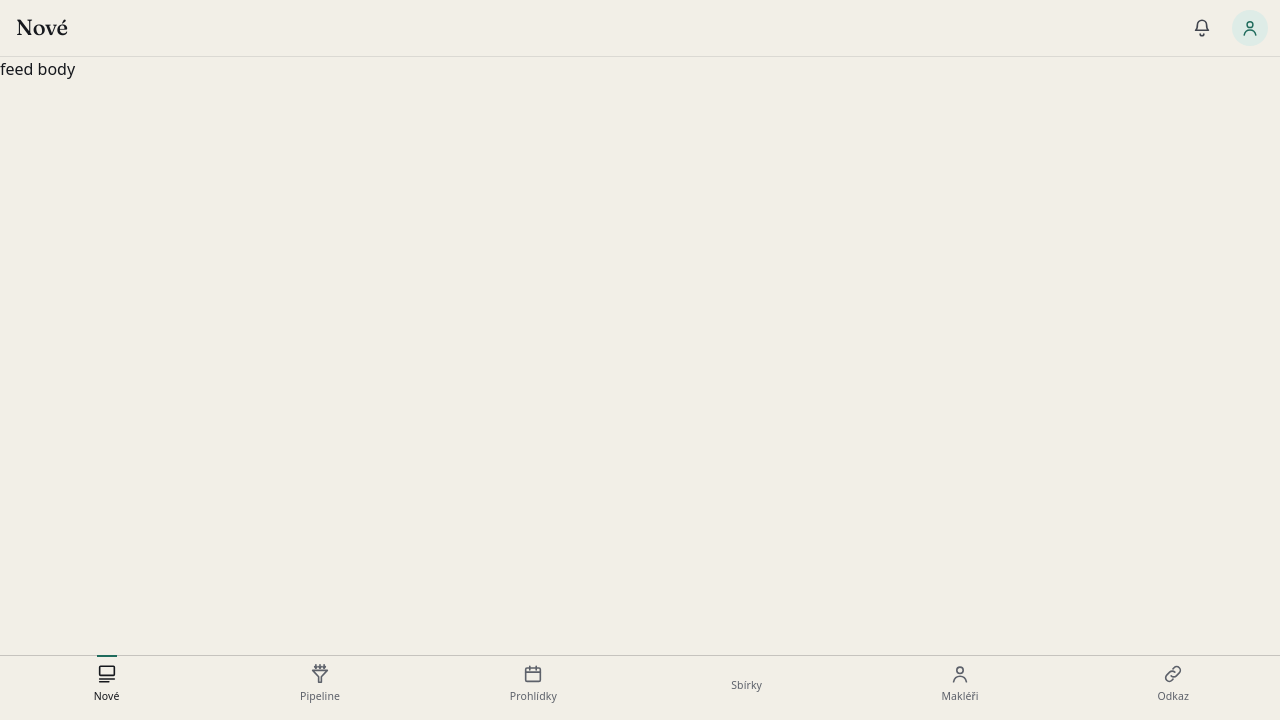
Test case: the push switch in the account sheet › is disabled in a Safari tab, and says what would help
Click the button named "Účet": x=1250, y=28 [1232,10,1268,46]
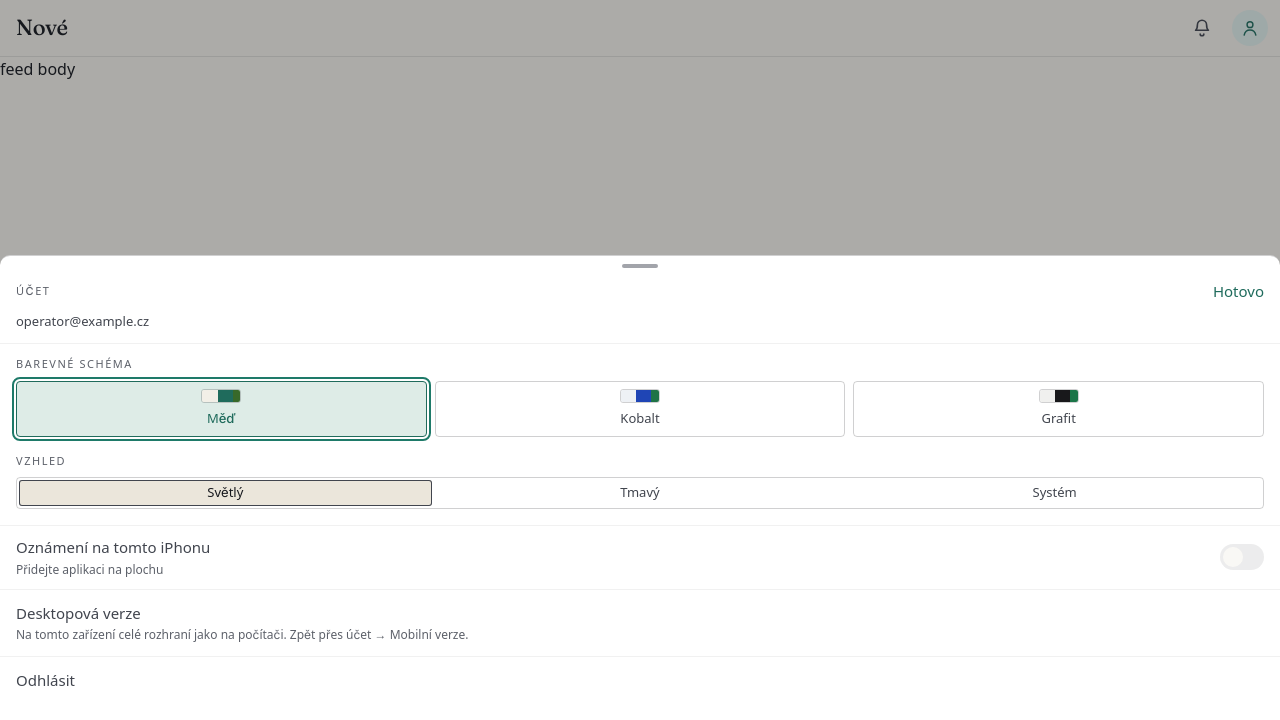
Expected: the switch labelled "Oznámení na tomto iPhonu" is disabled, [0,526,1279,590]
